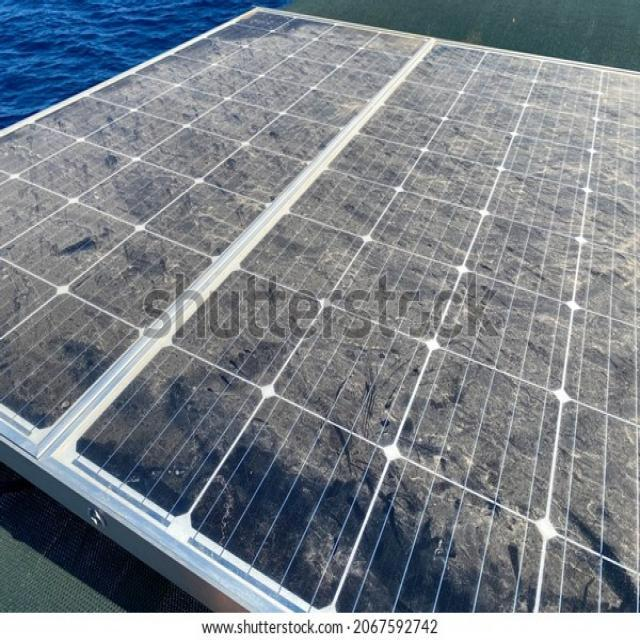faulty: (70, 35, 638, 617), (3, 10, 435, 435)
